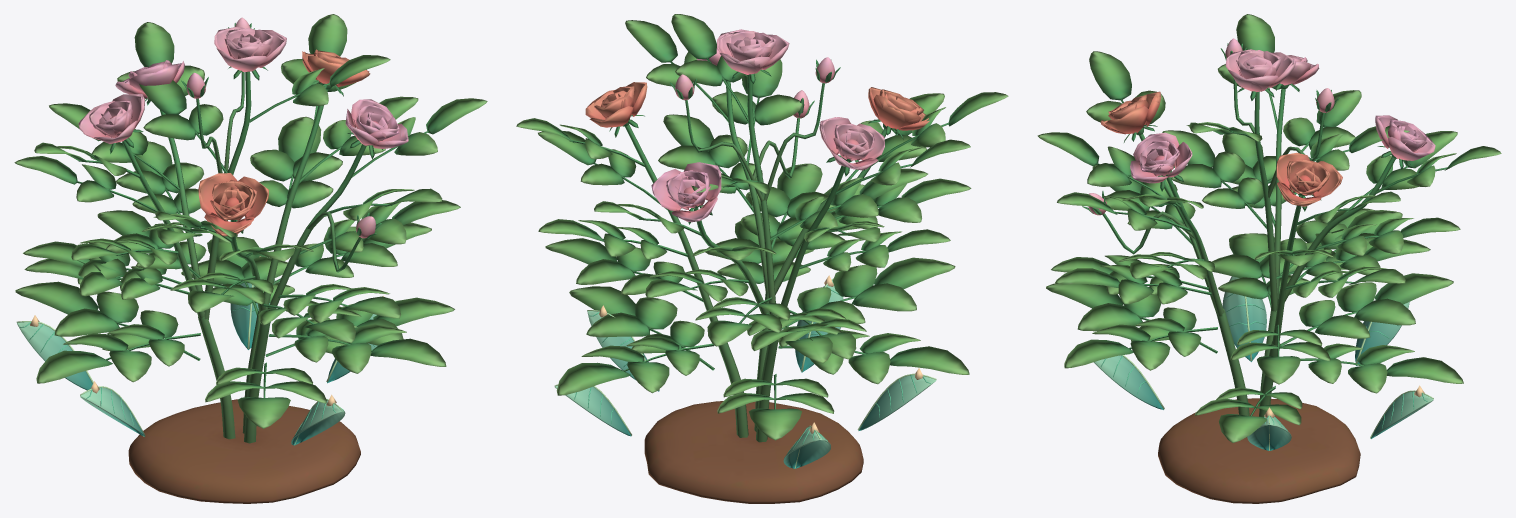
File: enchanted-sandrose.glb
3 renders of one model, left to right at view 1: azimuth 30°, elevation 25°; view 2: azimuth 150°, elevation 25°; view 3: azimuth 270°, elevation 25°, orthographic. The views are drawn at different scales.
Parts seen in each view (by area): view 1: rose_body, enchanted-sandrose-sculpted-details; view 2: rose_body, enchanted-sandrose-sculpted-details; view 3: rose_body, enchanted-sandrose-sculpted-details.
Part boxes in pixels (x1=…): rose_body: x1=14, y1=14, x2=487, y2=503; enchanted-sandrose-sculpted-details: x1=16, y1=256, x2=399, y2=445; rose_body: x1=516, y1=14, x2=1008, y2=503; enchanted-sandrose-sculpted-details: x1=554, y1=275, x2=936, y2=468; rose_body: x1=1037, y1=14, x2=1501, y2=503; enchanted-sandrose-sculpted-details: x1=1094, y1=276, x2=1433, y2=450.
Bounding box in the file's own units: 1.34 × 1.3 × 1.37.
2 materials, 1 textured.
